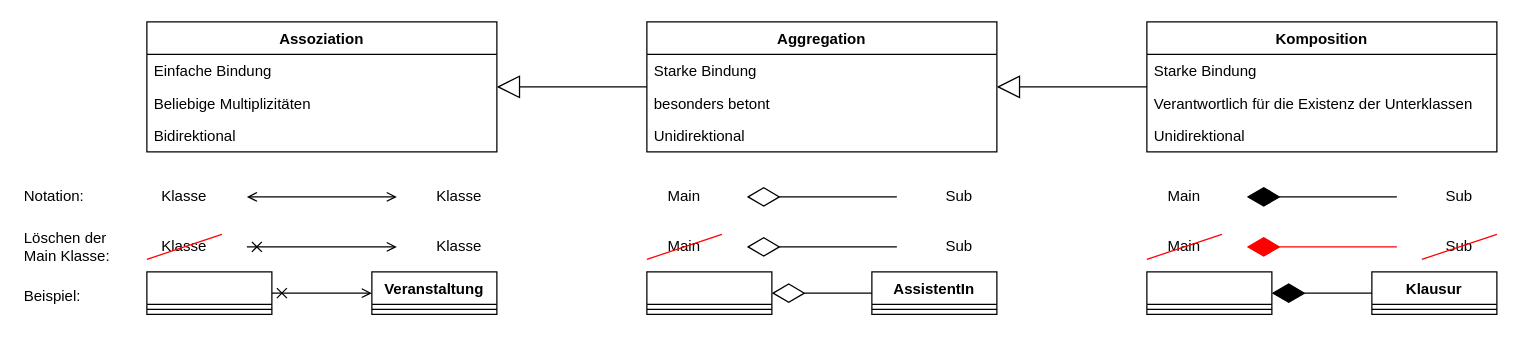
Image size: 1520x348. Some labels were removed from this diagram. The shapes that lost their labels are listed below. From the top down, each one's centre as x and y in pixels, then its label:
the point at 209,292: Mitarbeitender
the point at 709,292: ProfessorIn
the point at 1209,292: Vorlesung
